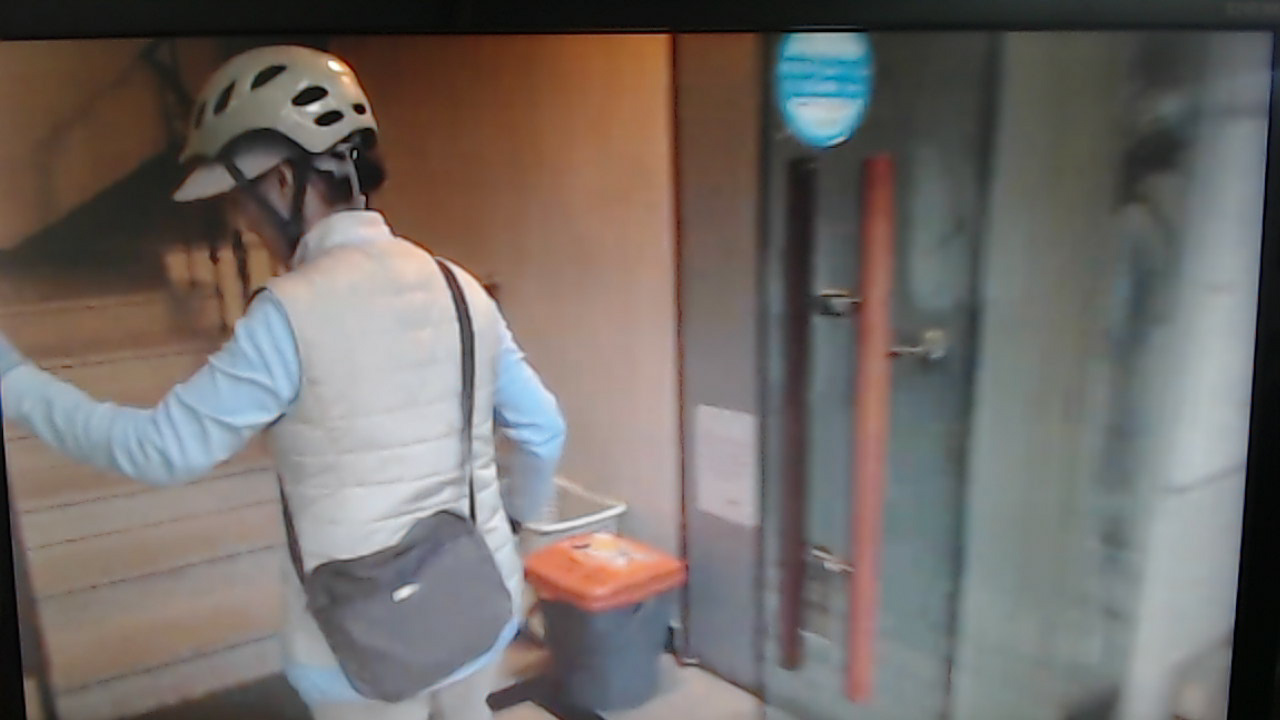Yakurut: (5, 44, 575, 720)
